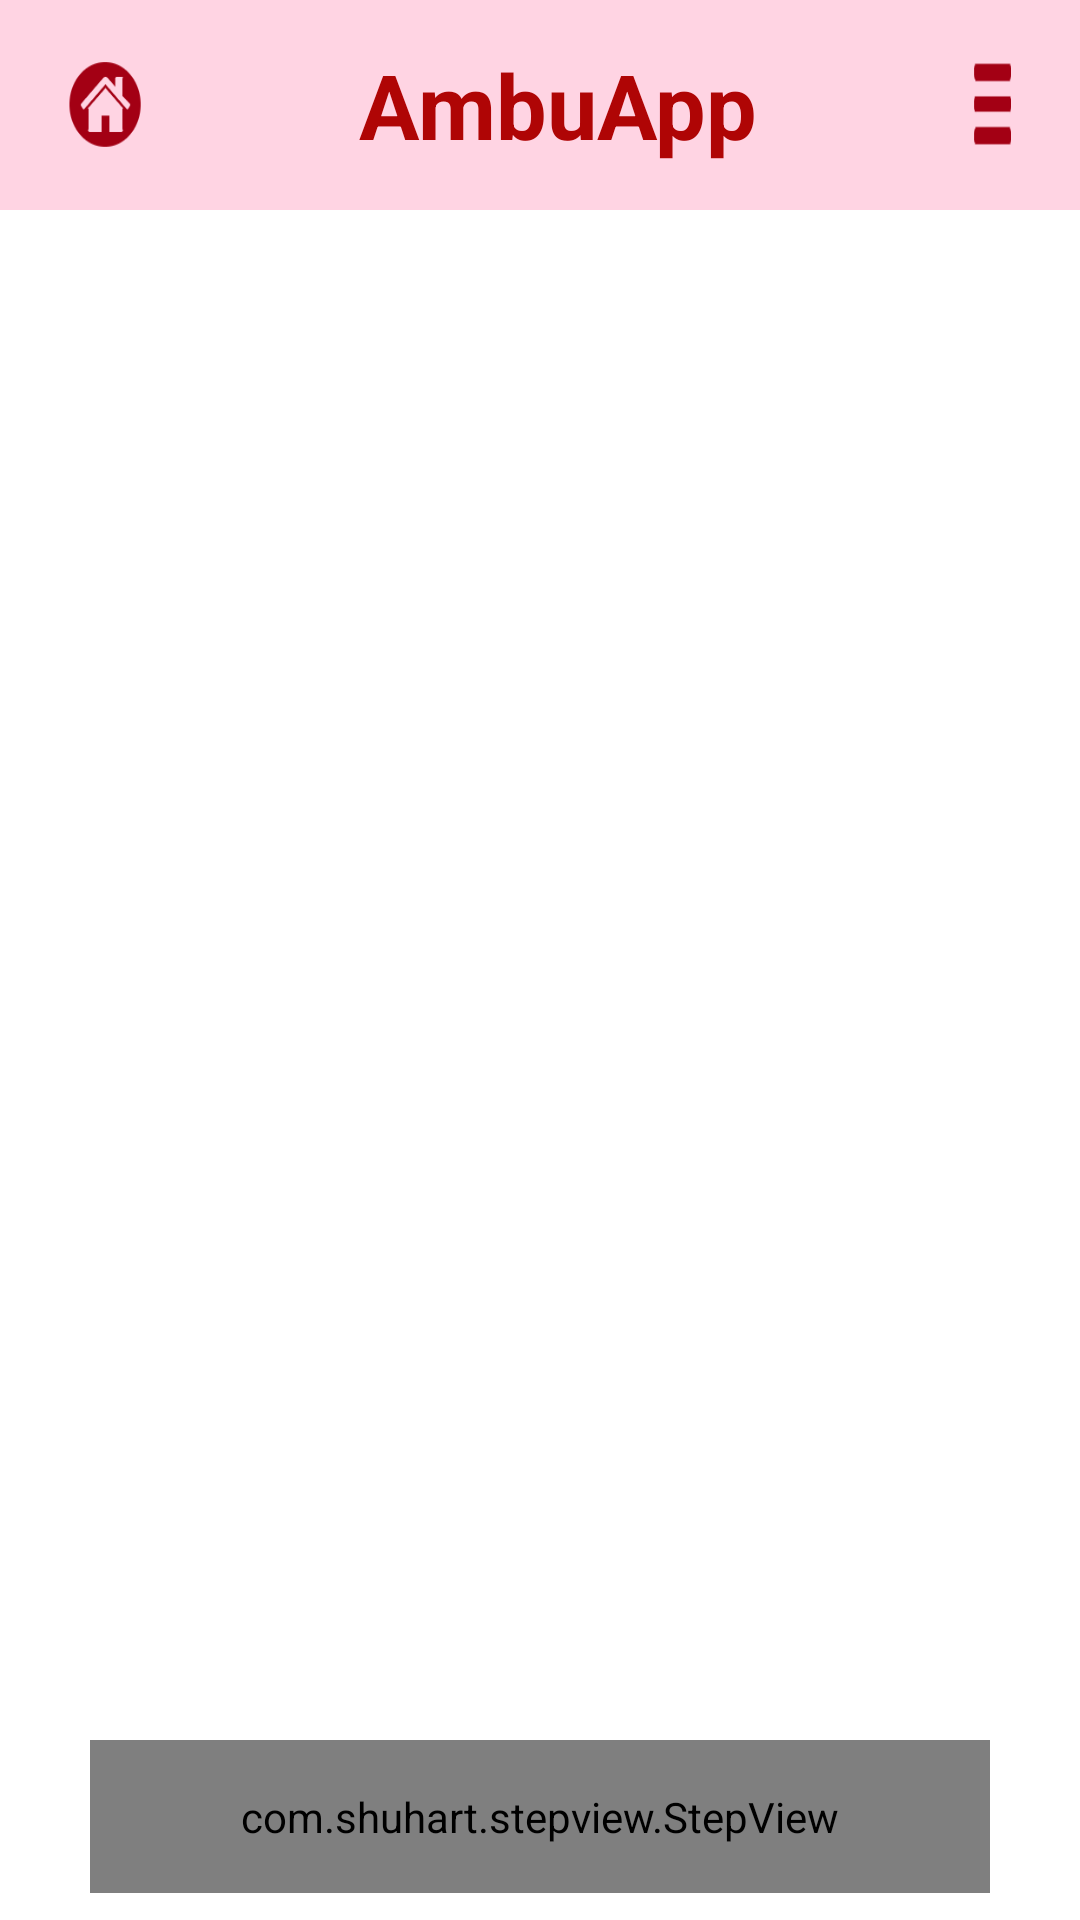

Point at icon controls on the screen. Image size 1080 x 1920, points as point (x, y).
home: point (105, 104)
navicon: point (992, 104)
